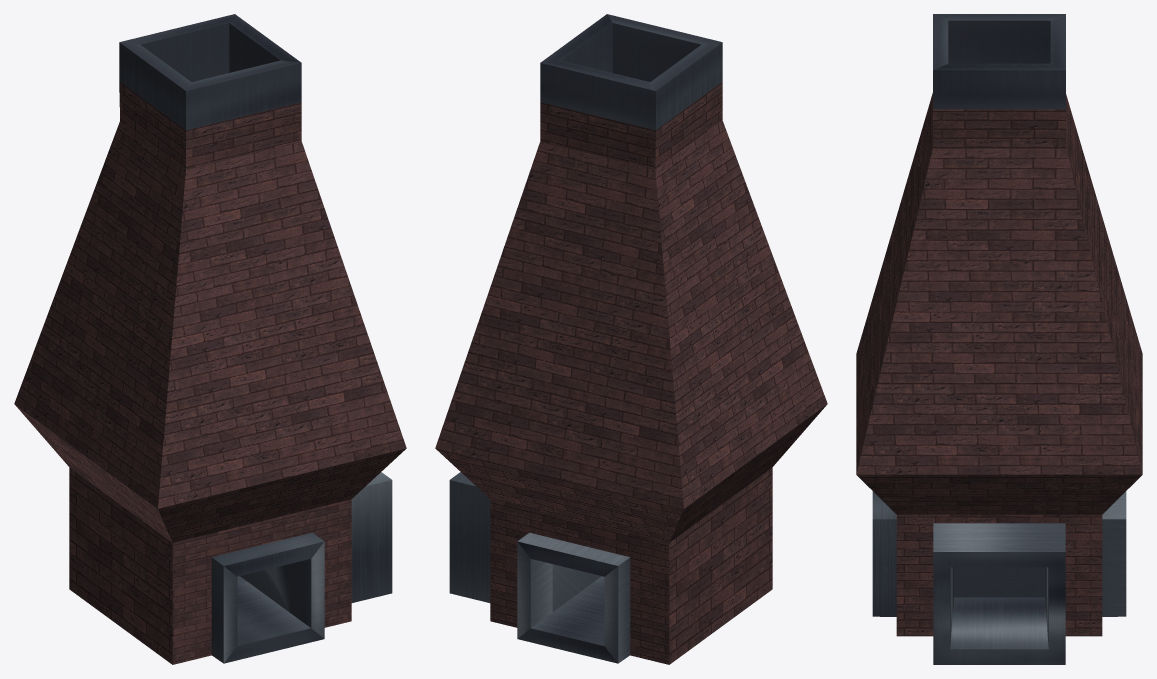
Rendered from fur.fbx.
3 views of the same model, side by side, from view 1: azimuth 30°, elevation 25°; view 2: azimuth 150°, elevation 25°; view 3: azimuth 270°, elevation 25° (orthographic).
Visible parts, largest first — view 1: 3; view 2: 3; view 3: 3.
Part boxes in pixels (x1=…): 3: x1=14, y1=14, x2=406, y2=664; 3: x1=435, y1=14, x2=827, y2=664; 3: x1=856, y1=14, x2=1142, y2=664.
Size of the model in its own units: 305 by 590 by 278.
Materials: 1 (1 with a texture image).
